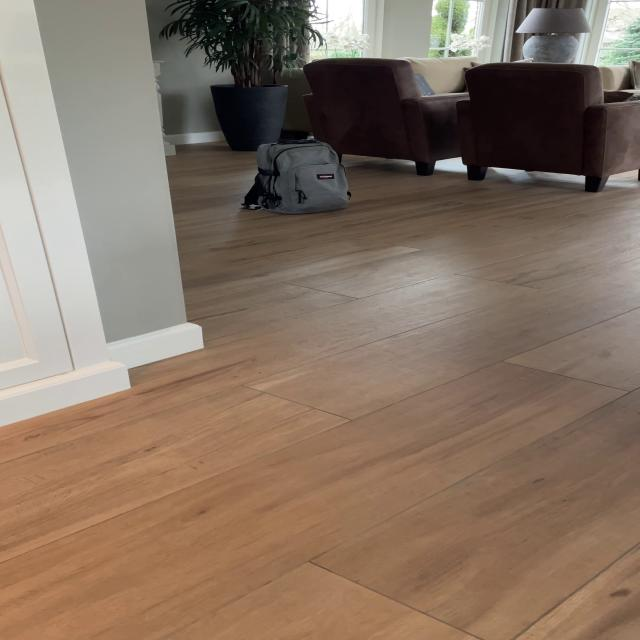backpack: (240, 128, 356, 218)
